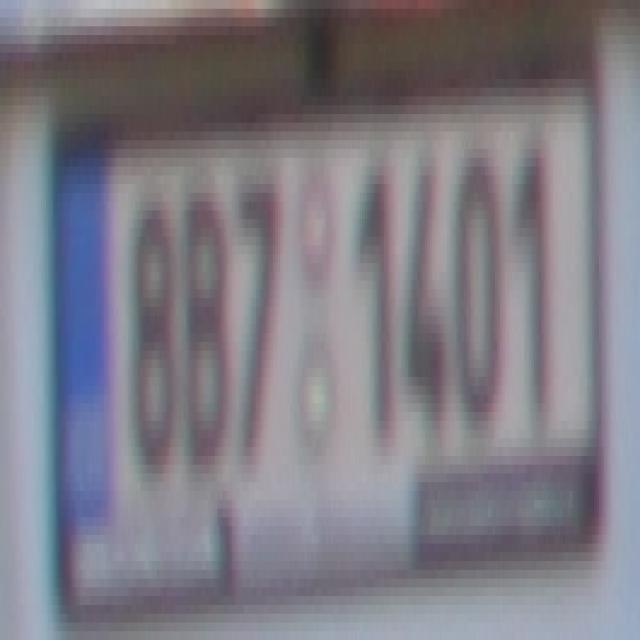0: (449, 132, 512, 448)
1: (358, 149, 403, 456), (517, 122, 553, 404)
4: (401, 140, 447, 438)
7: (234, 175, 280, 482)
8: (128, 193, 176, 465)
B: (179, 184, 232, 474)
